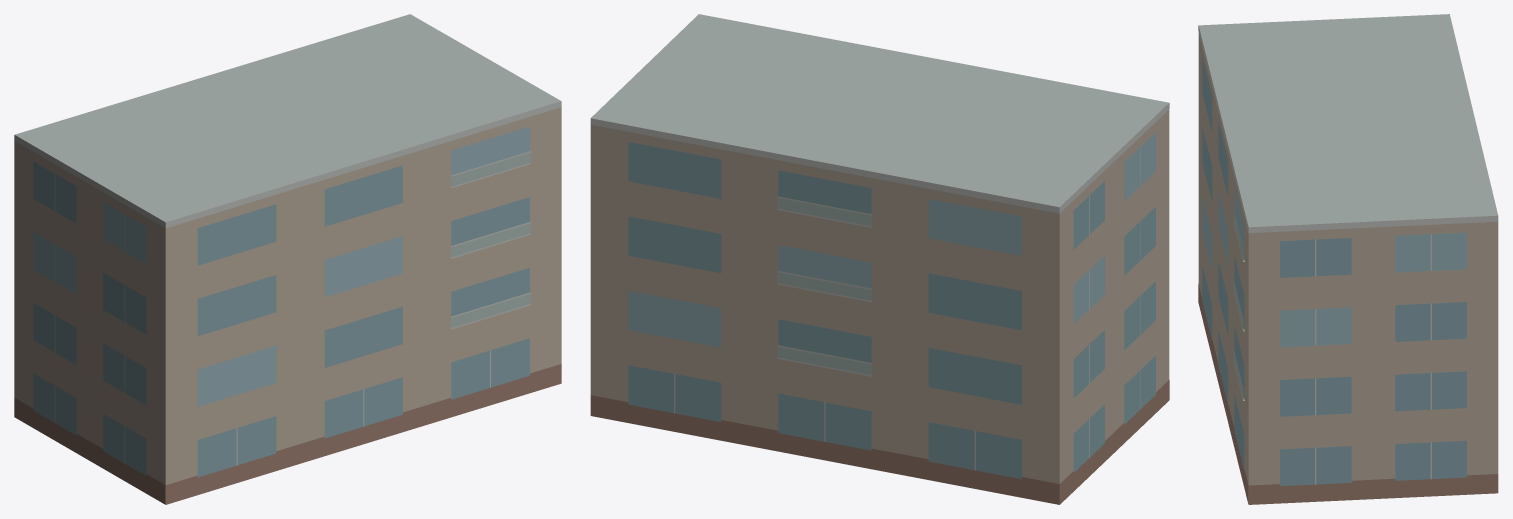
Rendered from survey-upis-32737537.glb.
The picture shows the model from 3 angles, left to right: view 1: azimuth 30°, elevation 25°; view 2: azimuth 150°, elevation 25°; view 3: azimuth 270°, elevation 25°; orthographic projection. The views are drawn at different scales.
Parts seen in each view (by area): view 1: survey-upis-32737537.tmp; view 2: survey-upis-32737537.tmp; view 3: survey-upis-32737537.tmp.
Boxes of the visible parts, x1,y1,x2,y2 form: survey-upis-32737537.tmp: (14,14,561,504); survey-upis-32737537.tmp: (590,14,1169,504); survey-upis-32737537.tmp: (1198,14,1498,504).
Bounding box in the file's own units: 18.88 × 11.45 × 11.22.
